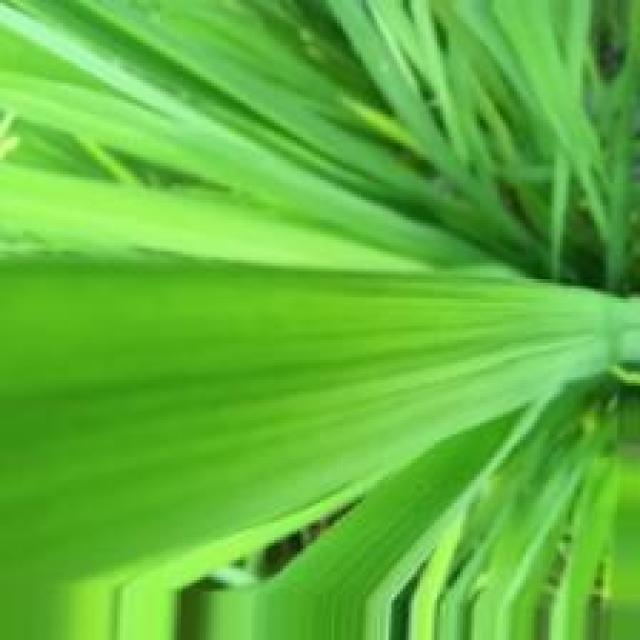HealthyLeaf: (12, 266, 568, 562), (297, 435, 473, 581)
